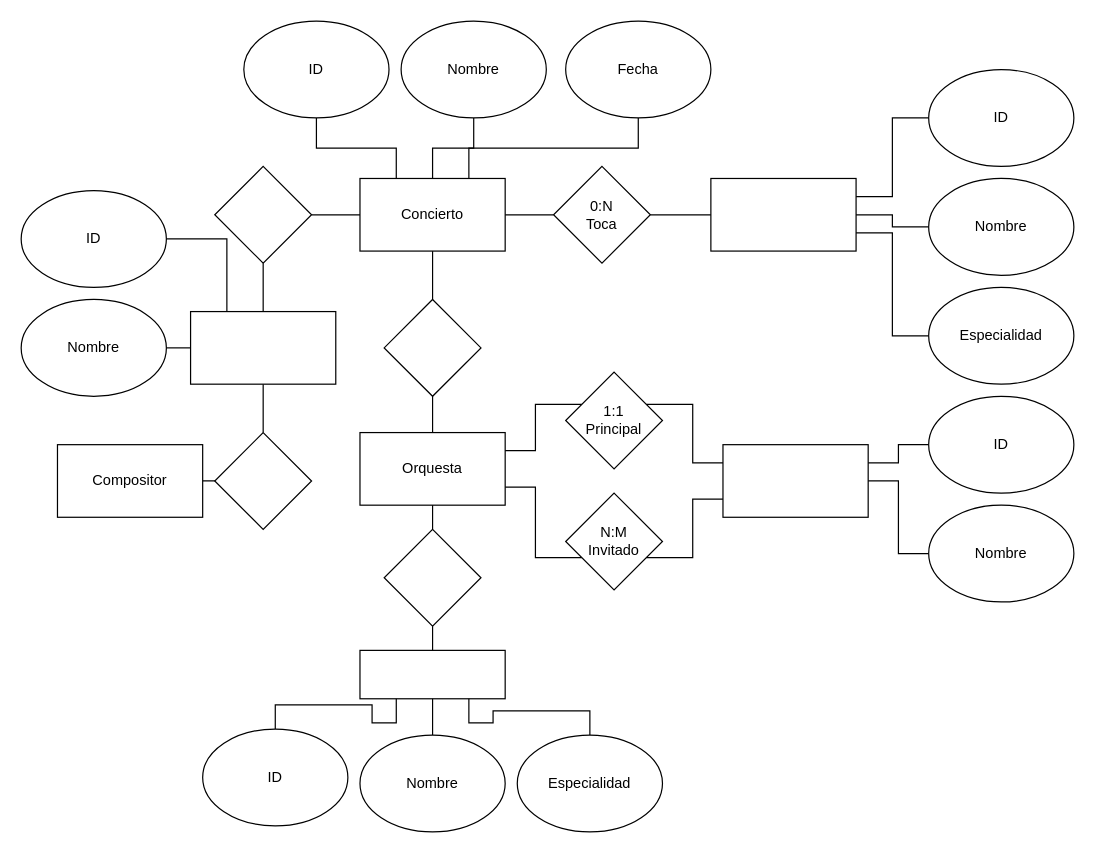
Image size: 1095x853. Some labels were removed from this diagram. The shapes that lost their labels are listed below. From the top down, each one's centre as x and y in pixels, then its label:
[263,214]: N:M Suenan
[783,214]: Solista
[262,347]: Composicion Cancion
[432,347]: 1:N Tocan
[263,480]: 1:N Crea
[795,480]: Director de Orquesta
[432,577]: 1:N Pertenece
[432,674]: Musico
